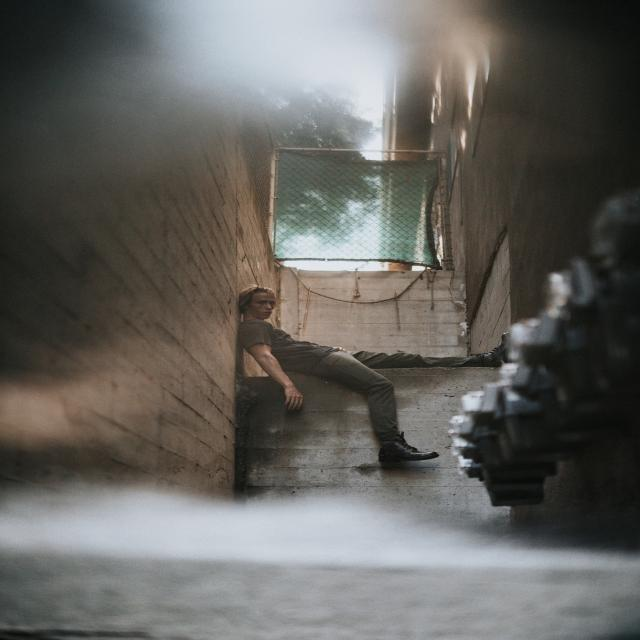adult: (234, 286, 510, 463)
